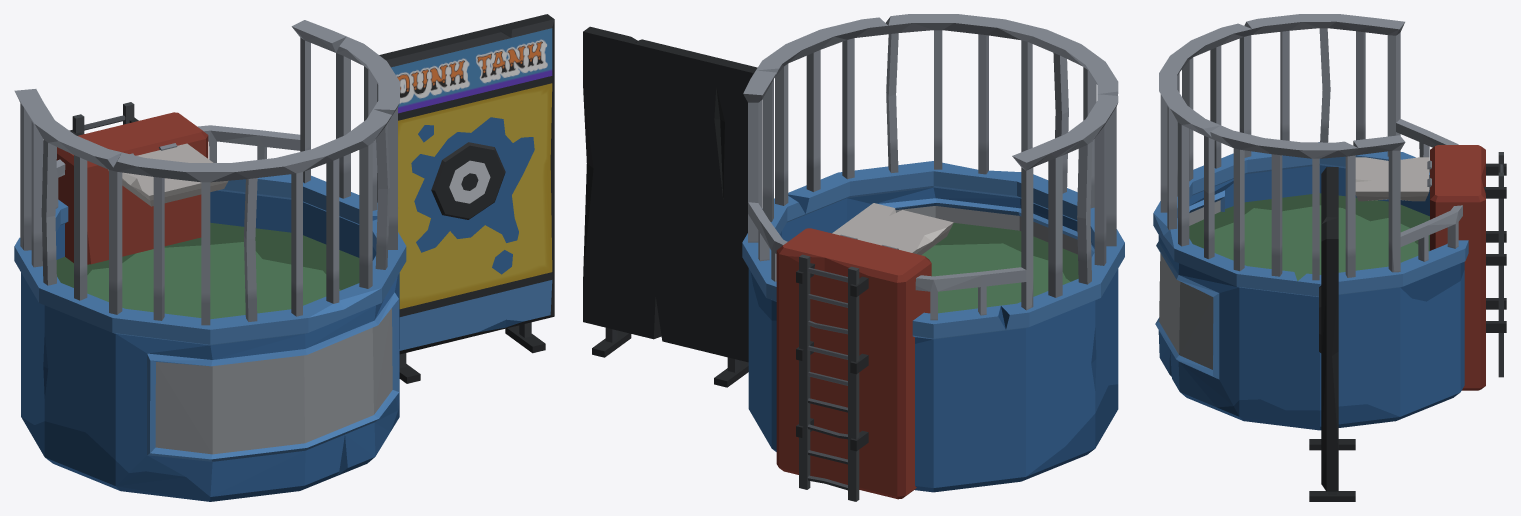
Rendered from DunkTank.glb.
3 renders of one model, left to right at view 1: azimuth 30°, elevation 25°; view 2: azimuth 150°, elevation 25°; view 3: azimuth 270°, elevation 25°, orthographic. The views are drawn at different scales.
Visible parts, largest first — view 1: DunkTankBody, Target, SeatBoard; view 2: DunkTankBody, SeatBoard; view 3: DunkTankBody, SeatBoard.
Part boxes in pixels (left/top/right/bottom): DunkTankBody: left=14, top=14, right=554, bottom=501; Target: left=431, top=142, right=505, bottom=219; SeatBoard: left=108, top=143, right=228, bottom=206; DunkTankBody: left=583, top=14, right=1124, bottom=501; SeatBoard: left=832, top=203, right=953, bottom=254; DunkTankBody: left=1153, top=14, right=1506, bottom=501; SeatBoard: left=1355, top=157, right=1429, bottom=201.
Size of the model in its own units: 1.84 by 1.13 by 1.27.
Materials: 1 (1 with a texture image).
